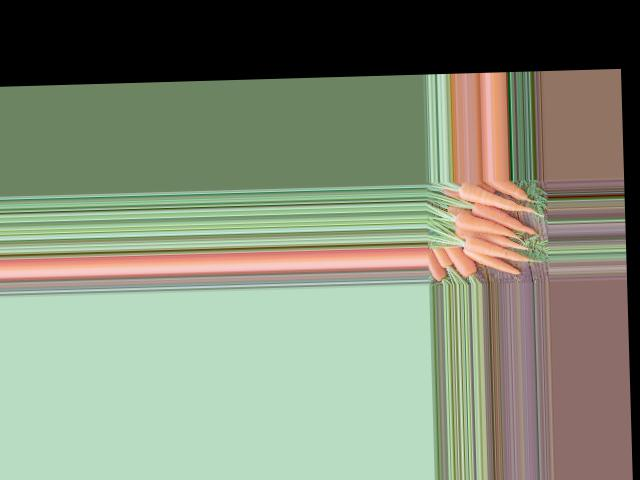carrot: (451, 181, 541, 209)
